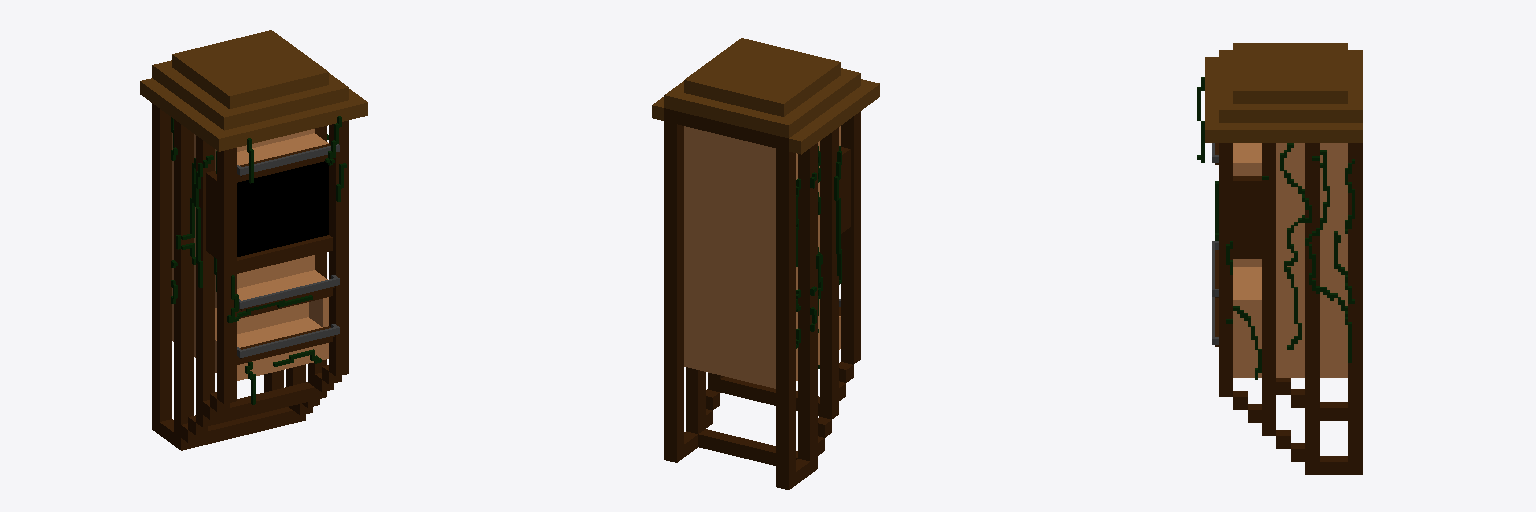
3 views of the same model, side by side, from view 1: azimuth 30°, elevation 25°; view 2: azimuth 150°, elevation 25°; view 3: azimuth 270°, elevation 25° (orthographic).
Parts seen in each view (by area): view 1: object 1; view 2: object 1; view 3: object 1.
Part boxes in pixels (x1,y1,x2,y2): object 1: (140, 30, 367, 450); object 1: (652, 38, 879, 489); object 1: (1197, 43, 1362, 474).
Size of the model in its own units: 4.8 by 11.6 by 4.6.
Materials: 1 (1 with a texture image).